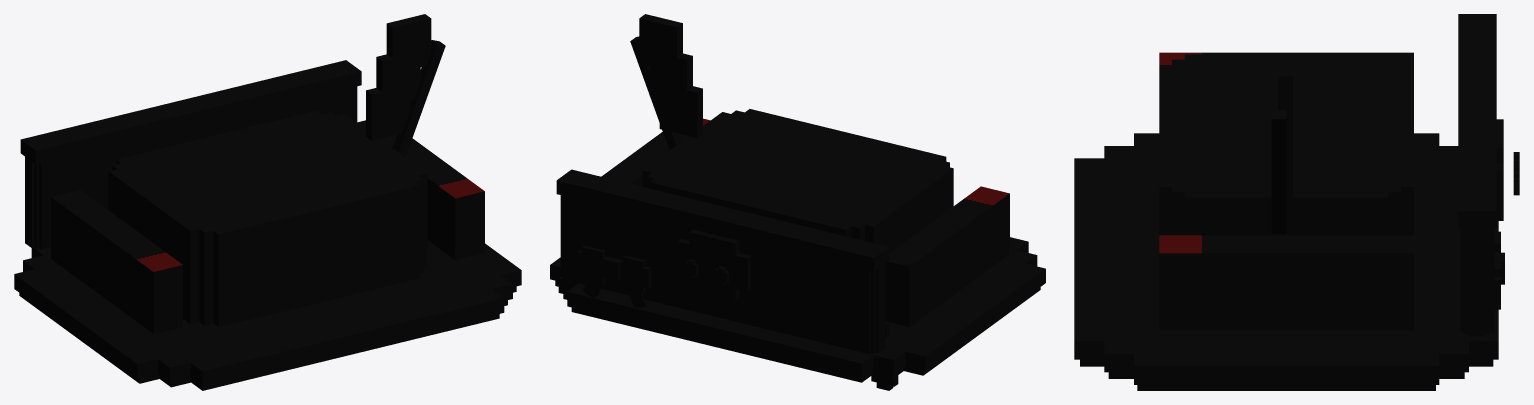
File: hat_corsair.obj
3 views of the same model, side by side, from view 1: azimuth 30°, elevation 25°; view 2: azimuth 150°, elevation 25°; view 3: azimuth 270°, elevation 25° (orthographic). The views are drawn at different scales.
Size of the model in its own units: 0.8125 by 0.5469 by 0.6556.
